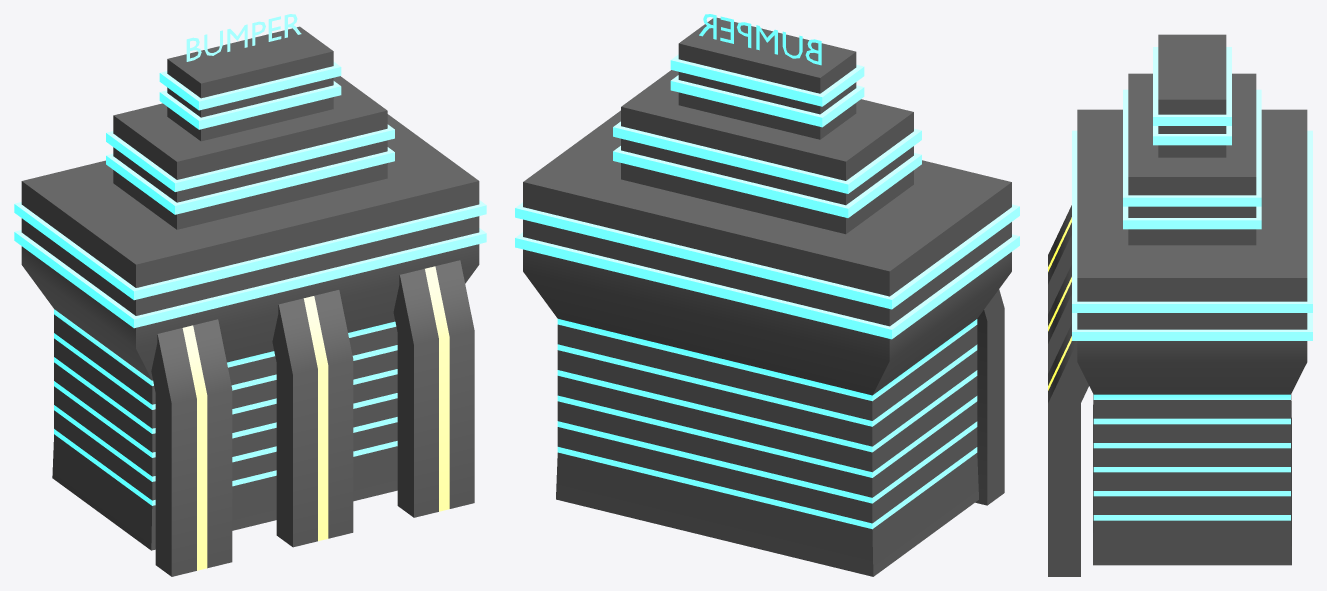
Rendered from mesh_Rooftop_Background_Building_B.fbx.
3 renders of one model, left to right at view 1: azimuth 30°, elevation 25°; view 2: azimuth 150°, elevation 25°; view 3: azimuth 270°, elevation 25°, orthographic. The views are drawn at different scales.
Visible parts, largest first — view 1: mesh_Rooftop_Background_Building_B; view 2: mesh_Rooftop_Background_Building_B; view 3: mesh_Rooftop_Background_Building_B.
Part boxes in pixels (left/top/right/bottom): mesh_Rooftop_Background_Building_B: left=14, top=14, right=486, bottom=576; mesh_Rooftop_Background_Building_B: left=515, top=14, right=1019, bottom=576; mesh_Rooftop_Background_Building_B: left=1048, top=34, right=1312, bottom=576.
Bounding box in the file's own units: 13.51 × 16.74 × 8.73.
